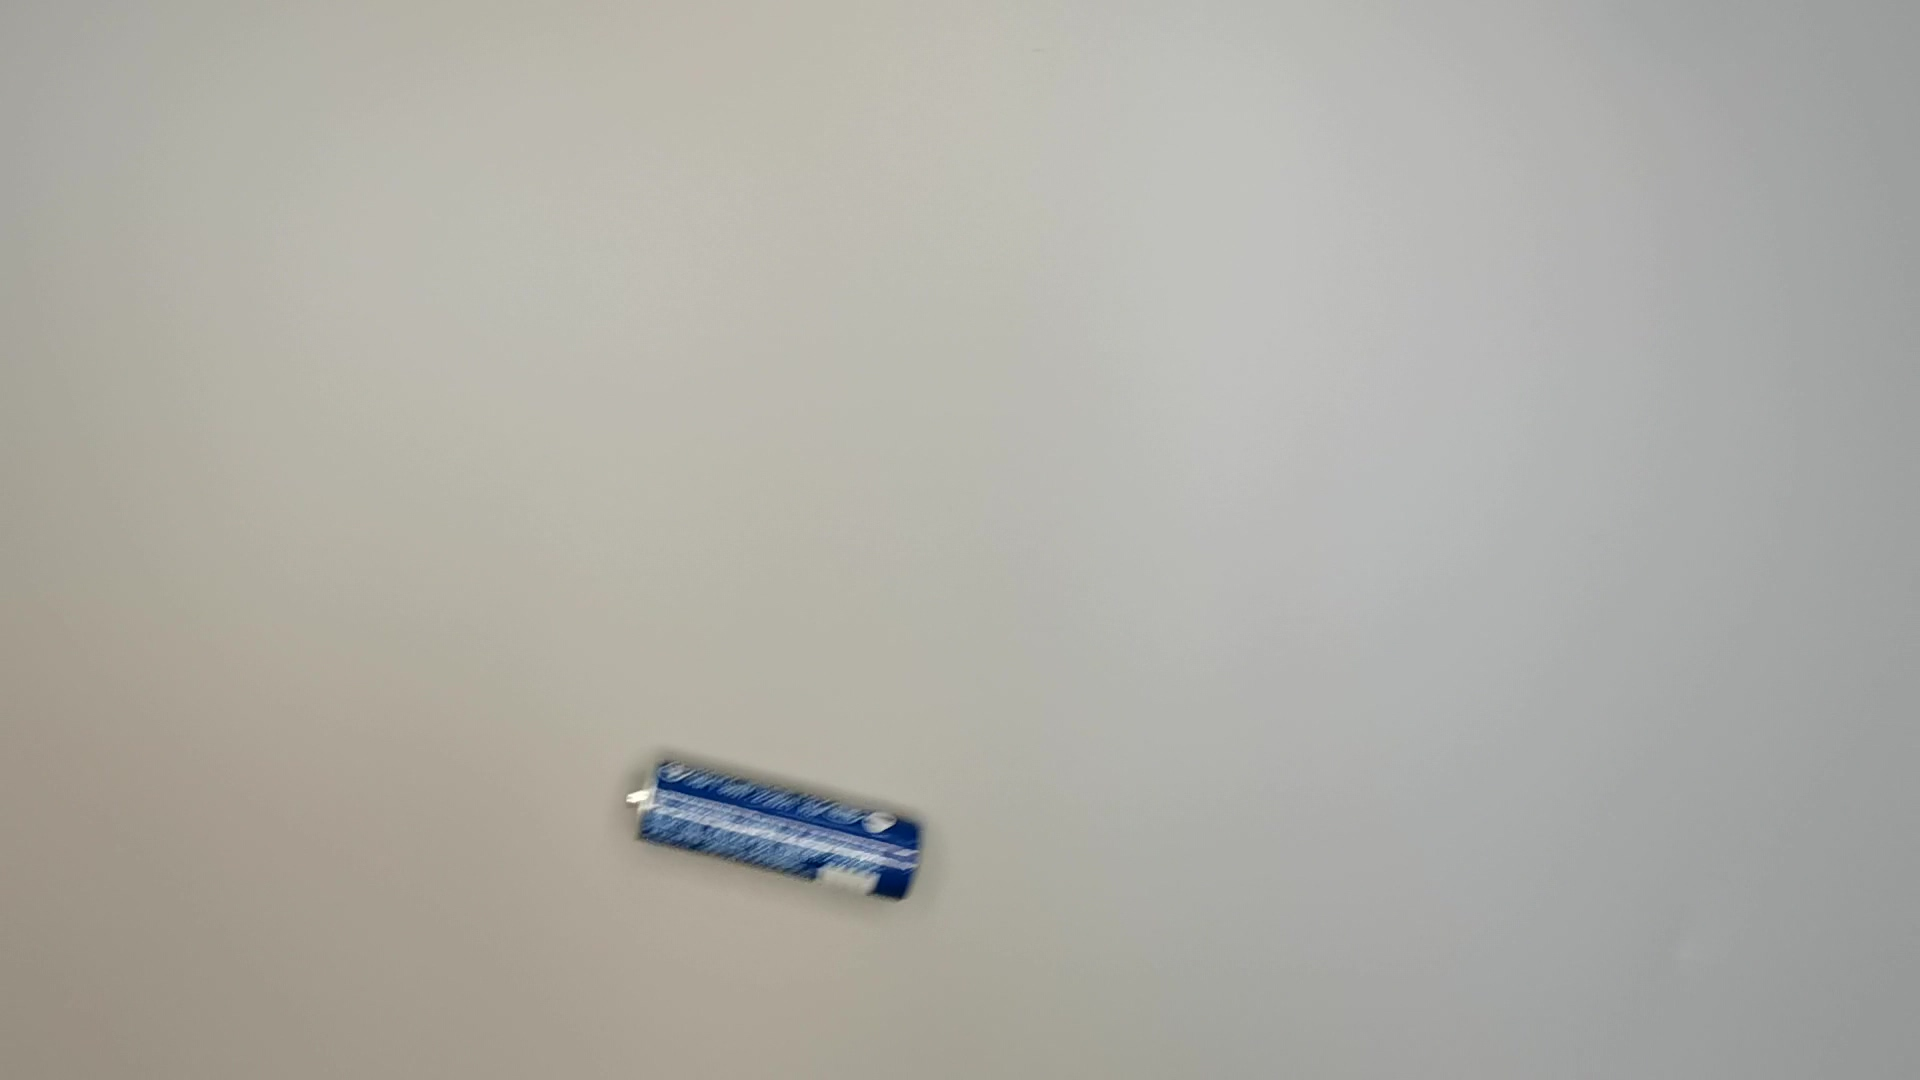battery: (626, 757, 934, 909)
